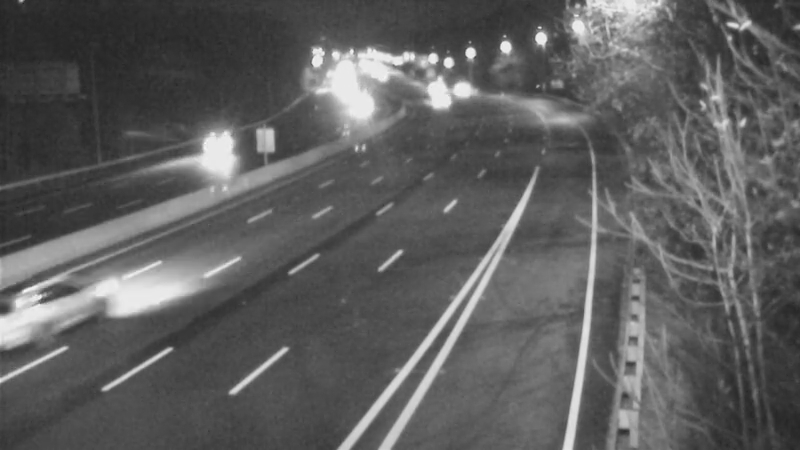vehicle: (1, 260, 95, 370), (198, 113, 278, 193), (413, 76, 463, 126)
